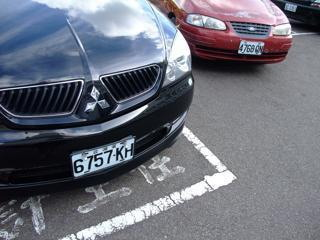plate: (68, 134, 136, 175), (237, 37, 265, 59)
